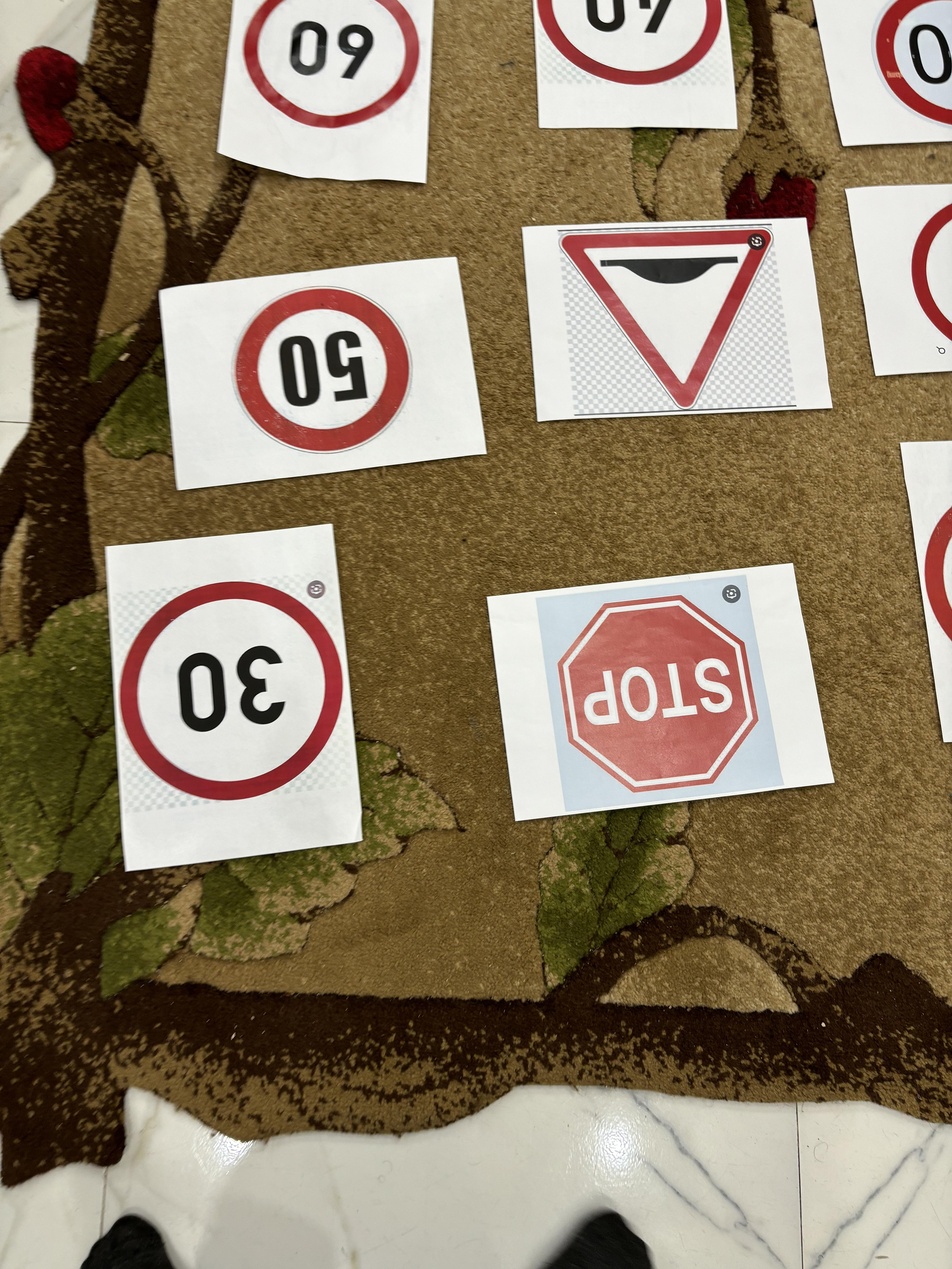30-speed: (116, 580, 349, 806)
50-Speed: (235, 287, 418, 460)
60-Speed: (244, 0, 423, 129)
Hump: (554, 225, 776, 413)
Stop: (554, 585, 756, 796)
